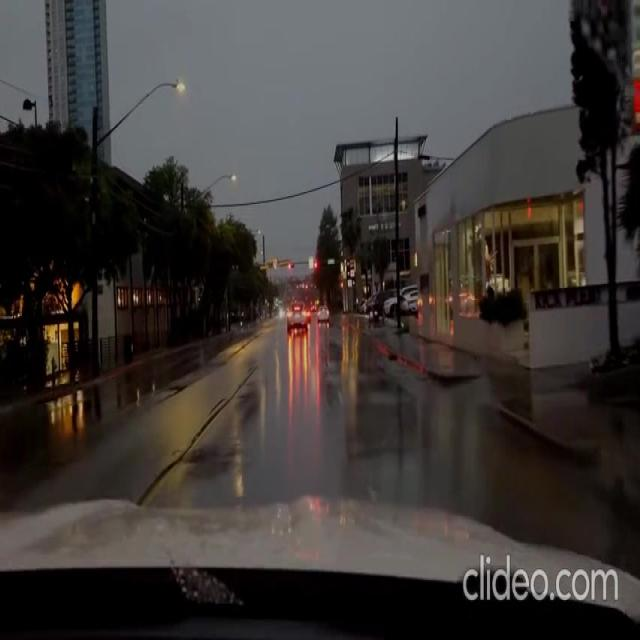Car: (386, 280, 423, 314), (286, 301, 306, 330), (315, 303, 329, 321)
